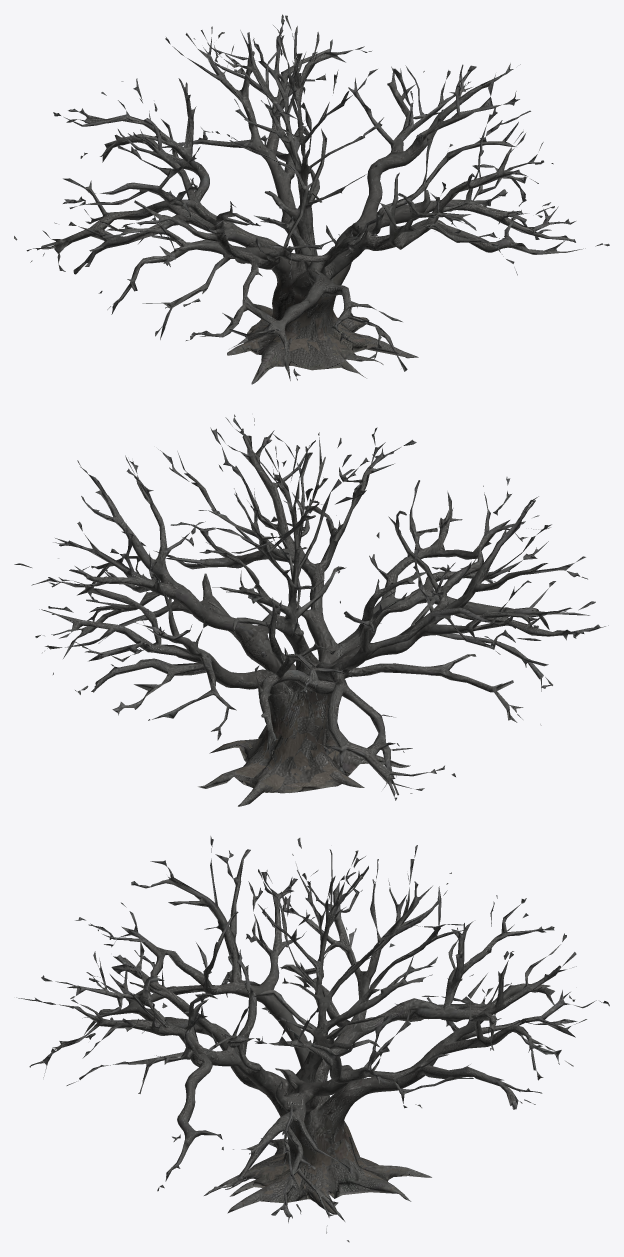
The model's file is tree_sentinel.glb.
The picture shows the model from 3 angles, top to bottom: view 1: azimuth 30°, elevation 25°; view 2: azimuth 150°, elevation 25°; view 3: azimuth 270°, elevation 25°; orthographic projection. The views are drawn at different scales.
Visible parts, largest first — view 1: bare_sentinel; view 2: bare_sentinel; view 3: bare_sentinel.
Part boxes in pixels (x1,y1,x2,y2): bare_sentinel: (14,14,609,384); bare_sentinel: (14,414,608,806); bare_sentinel: (16,836,609,1242).
Bounding box in the file's own units: 11.36 × 7.24 × 11.81.
1 material, 1 textured.
